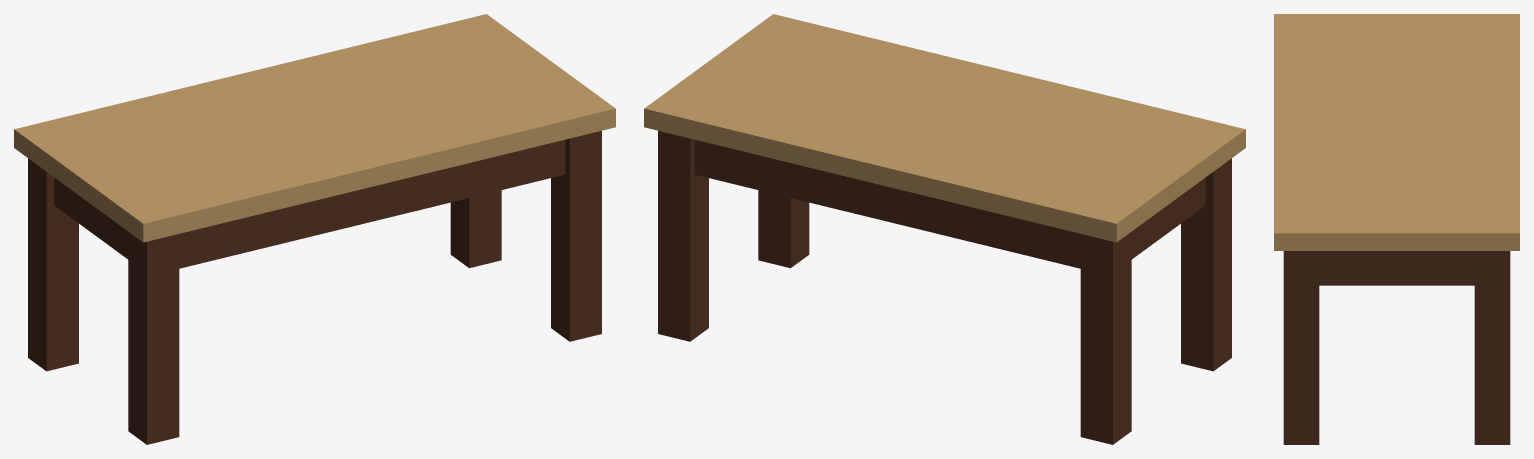
Rendered from Table_4.fbx.
The picture shows the model from 3 angles, left to right: view 1: azimuth 30°, elevation 25°; view 2: azimuth 150°, elevation 25°; view 3: azimuth 270°, elevation 25°; orthographic projection. The views are drawn at different scales.
Visible parts, largest first — view 1: polySurface2099; view 2: polySurface2099; view 3: polySurface2099.
Boxes of the visible parts, left/top/right/bottom form: polySurface2099: left=14, top=14, right=615, bottom=444; polySurface2099: left=644, top=14, right=1245, bottom=444; polySurface2099: left=1274, top=14, right=1519, bottom=444.
Size of the model in its own units: 1.9 by 0.872 by 0.9.
Materials: 1 (1 with a texture image).
